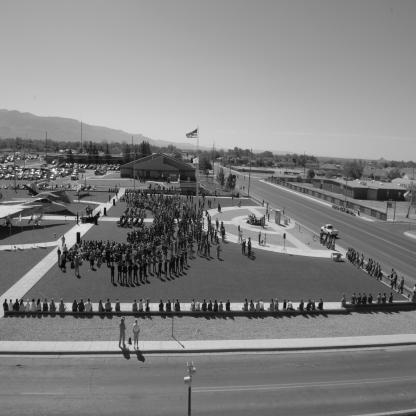F117: (23, 184, 78, 213)
F15: (2, 199, 70, 230)
F4: (27, 171, 58, 194)
